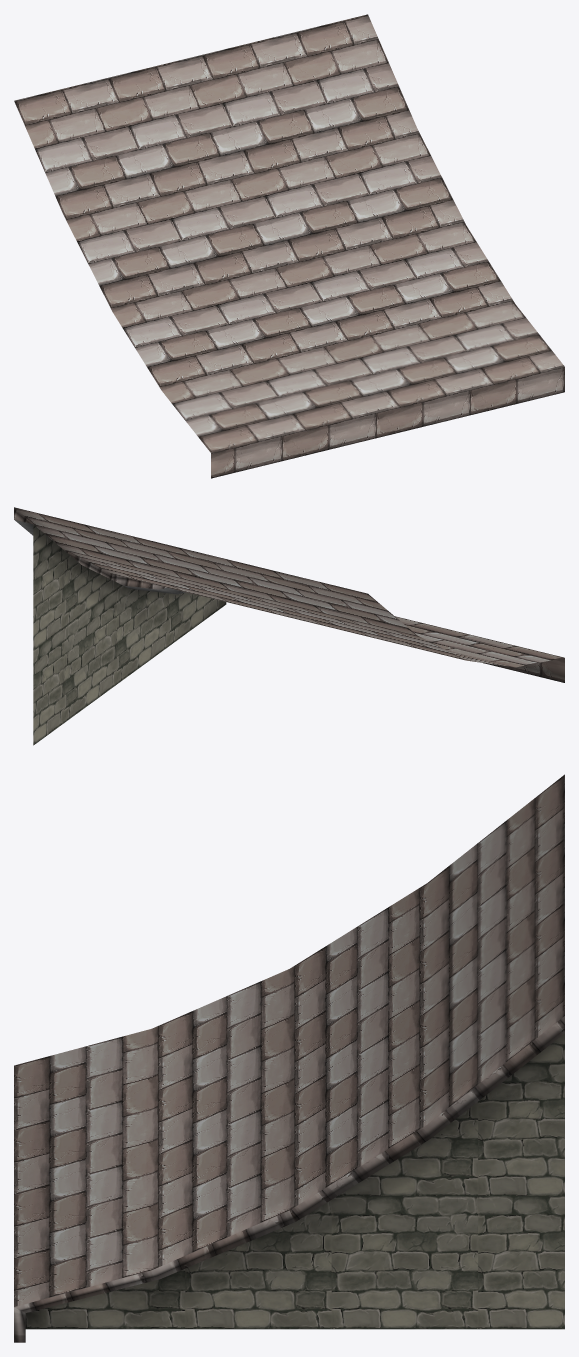
The model's file is Roof.fbx.
3 renders of one model, top to bottom at view 1: azimuth 30°, elevation 25°; view 2: azimuth 150°, elevation 25°; view 3: azimuth 270°, elevation 25°, orthographic. The views are drawn at different scales.
Parts seen in each view (by area): view 1: Cube_037; view 2: Cube_037; view 3: Cube_037.
Boxes of the visible parts, x1,y1,x2,y2 form: Cube_037: (14, 14, 564, 478); Cube_037: (14, 507, 564, 745); Cube_037: (14, 774, 564, 1342).
Size of the model in its own units: 5.94 by 3.75 by 5.73.
